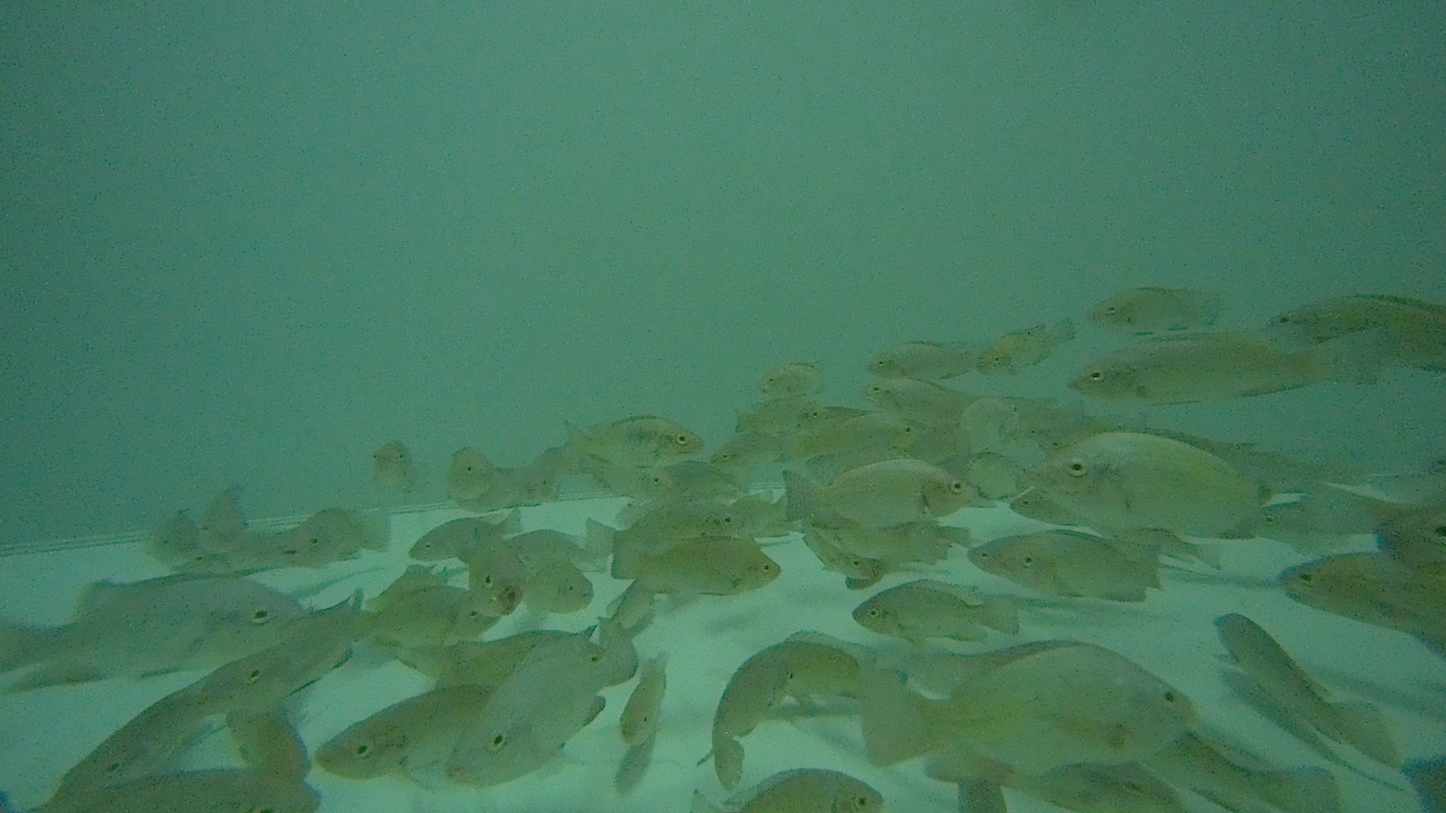fish: (1068, 326, 1393, 404), (781, 458, 980, 527), (613, 536, 781, 598), (852, 583, 1023, 641), (562, 412, 704, 458)
